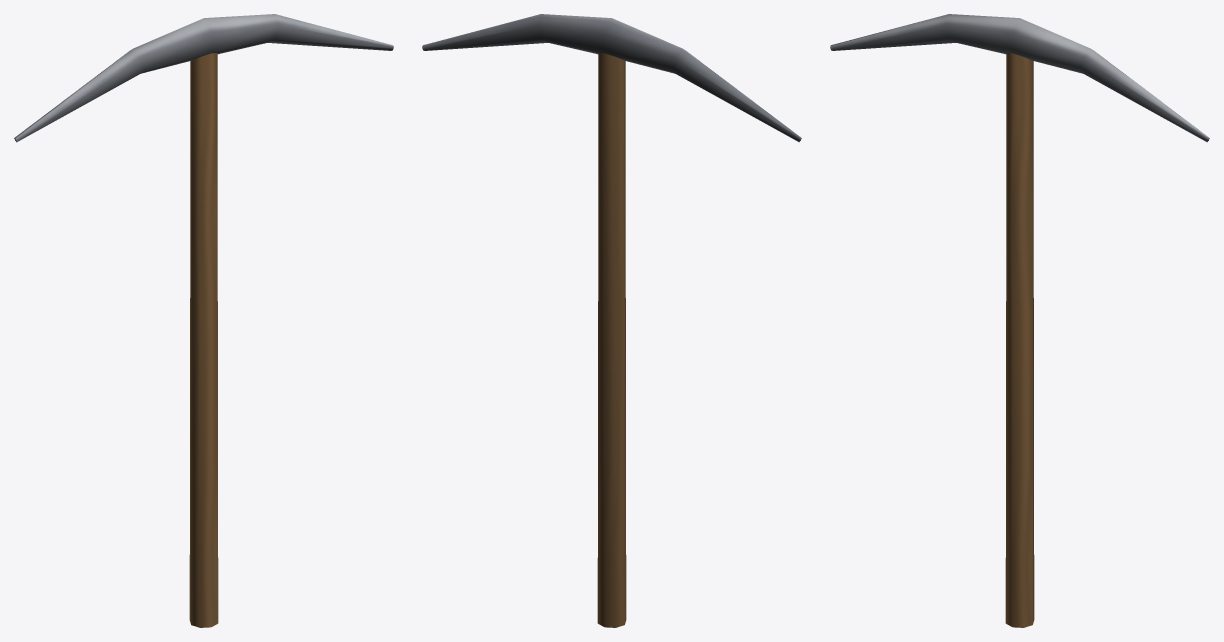
Rendered from pioche.glb.
The picture shows the model from 3 angles, left to right: view 1: azimuth 30°, elevation 25°; view 2: azimuth 150°, elevation 25°; view 3: azimuth 330°, elevation 25°; orthographic projection.
Visible parts, largest first — view 1: pioche; view 2: pioche; view 3: pioche.
Boxes of the visible parts, x1=… form: pioche: x1=14, y1=14, x2=393, y2=627; pioche: x1=422, y1=14, x2=801, y2=627; pioche: x1=830, y1=14, x2=1209, y2=627.
Size of the model in its own units: 0.5629 by 0.858 by 0.0388.
Materials: 1 (1 with a texture image).
